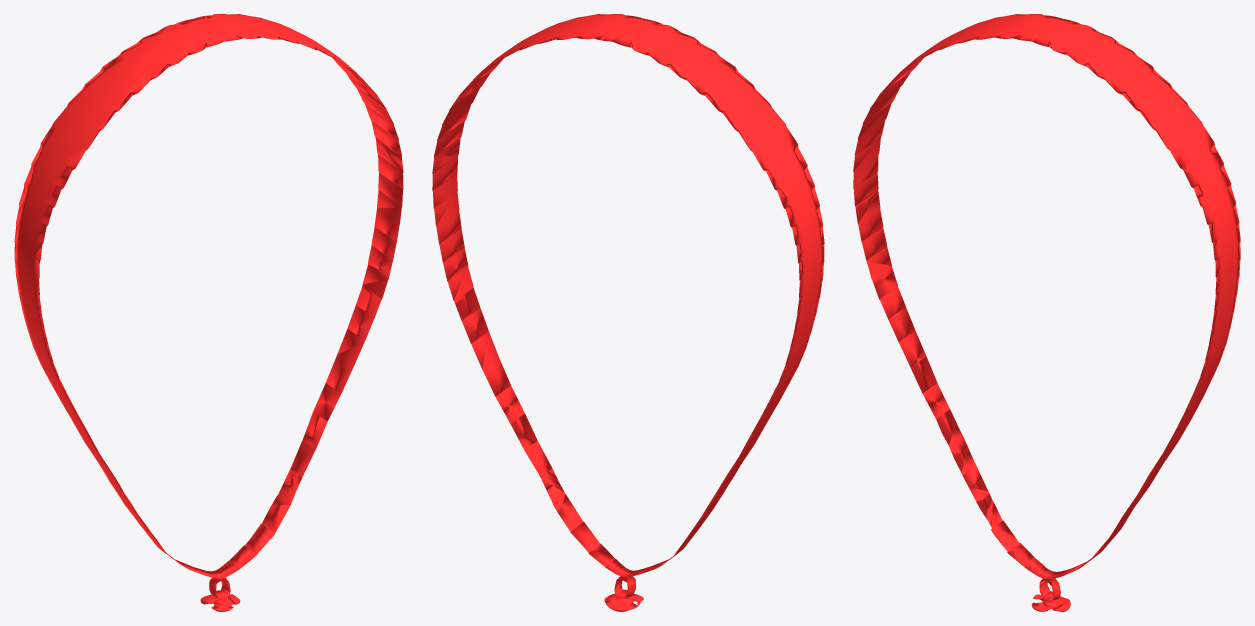
Rendered from Outline.fbx.
The picture shows the model from 3 angles, left to right: view 1: azimuth 30°, elevation 25°; view 2: azimuth 150°, elevation 25°; view 3: azimuth 330°, elevation 25°; orthographic projection.
Visible parts, largest first — view 1: Sphere; view 2: Sphere; view 3: Sphere.
Boxes of the visible parts, box(x1,y1,x2,y2) form: Sphere: box(14, 14, 403, 611); Sphere: box(432, 14, 824, 611); Sphere: box(853, 14, 1240, 611).
Size of the model in its own units: 191 by 287 by 32.32.
